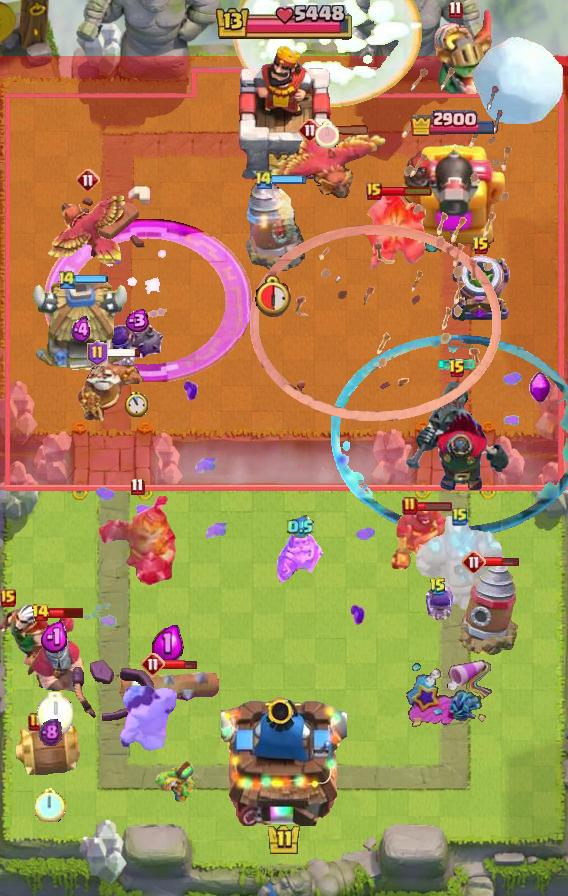cannoneer-tower: (412, 516, 508, 614), (347, 190, 427, 276)
clock: (213, 5, 355, 43)
electro-spirit: (152, 623, 184, 663), (40, 622, 70, 655), (122, 308, 150, 332), (38, 717, 61, 746), (287, 515, 313, 539), (71, 316, 92, 344)
elixir: (255, 273, 295, 317), (37, 692, 73, 734), (35, 786, 65, 821), (315, 121, 339, 148), (125, 391, 148, 417)
elixir-collector: (77, 354, 147, 428)
emote: (380, 185, 433, 197), (319, 124, 371, 135), (47, 606, 84, 619), (162, 657, 198, 670), (106, 346, 143, 357), (416, 500, 453, 511), (484, 556, 520, 567), (272, 175, 307, 186), (75, 274, 109, 284)
firecracker-evolution: (277, 526, 323, 584)
freeze: (388, 504, 456, 576)
giant-snowball: (155, 760, 203, 804)
goblin: (423, 586, 454, 626)
goblin-ball: (106, 315, 166, 373)
goblin-cage: (449, 254, 513, 324)
golden-knight: (47, 192, 129, 264)
ice-spirit: (437, 358, 477, 370)
inferno-tower: (404, 380, 510, 492)
king-tower: (221, 690, 347, 826), (230, 43, 338, 181)
knight-evolution: (44, 218, 251, 381)
magic-archer: (458, 562, 518, 656), (245, 180, 305, 272)
minion: (117, 667, 220, 705)
mother-witch: (260, 132, 390, 206)
night-witch: (414, 4, 496, 98)
pad_0: (332, 334, 568, 538)
phoenix-big: (233, 0, 424, 108)
prince: (30, 279, 132, 375)
rage: (119, 682, 179, 754)
royal-guardian: (97, 495, 177, 587)
selected: (409, 108, 497, 136)
skeleton-barrel: (249, 64, 513, 423)
skeleton-king: (0, 604, 66, 674)
skeleton-king-skill: (528, 371, 551, 405)
text: (298, 118, 322, 142), (76, 168, 100, 192), (462, 550, 486, 574), (141, 652, 165, 676), (87, 340, 108, 366), (254, 169, 274, 191), (57, 269, 77, 291), (31, 603, 50, 623), (472, 236, 490, 256), (448, 359, 466, 379), (429, 577, 447, 597), (402, 496, 418, 516), (452, 506, 468, 526), (28, 712, 44, 732), (366, 182, 382, 200), (0, 589, 16, 607), (131, 477, 146, 496), (449, 1, 463, 20)
the-log: (13, 724, 87, 776)
tower-bar: (399, 138, 507, 256)
wall-breaker: (471, 35, 565, 127)
wall-breaker-evolution: (25, 614, 85, 694)
